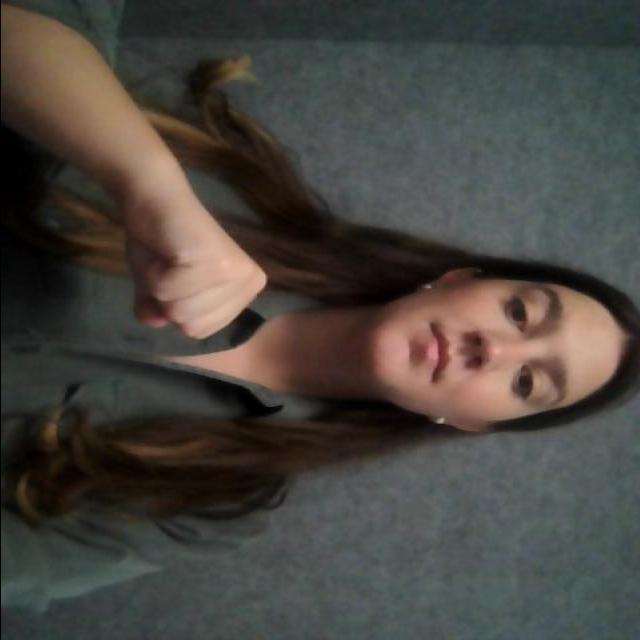Rock: (106, 187, 280, 357)
